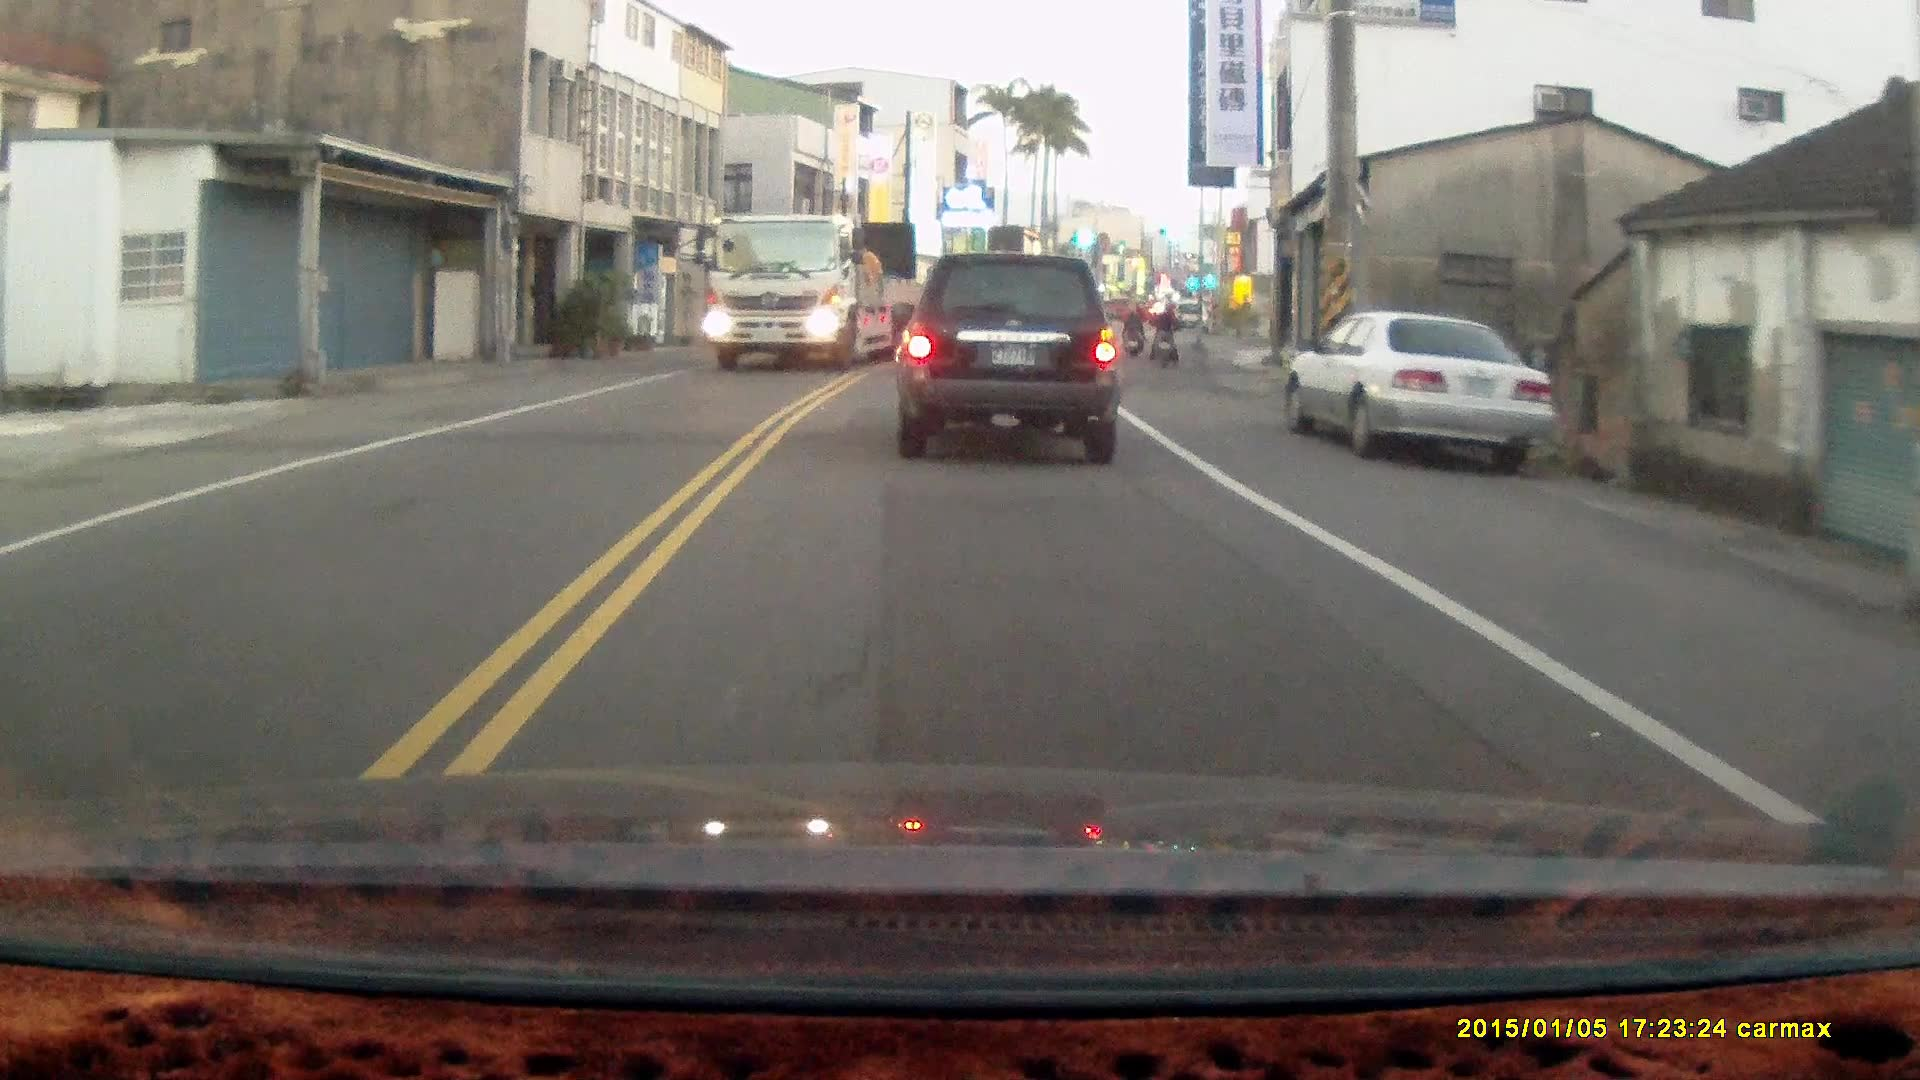rider: (1149, 293, 1180, 369), (1120, 299, 1145, 362)
vehicle: (892, 249, 1128, 465), (1289, 312, 1558, 467), (705, 208, 920, 368)
